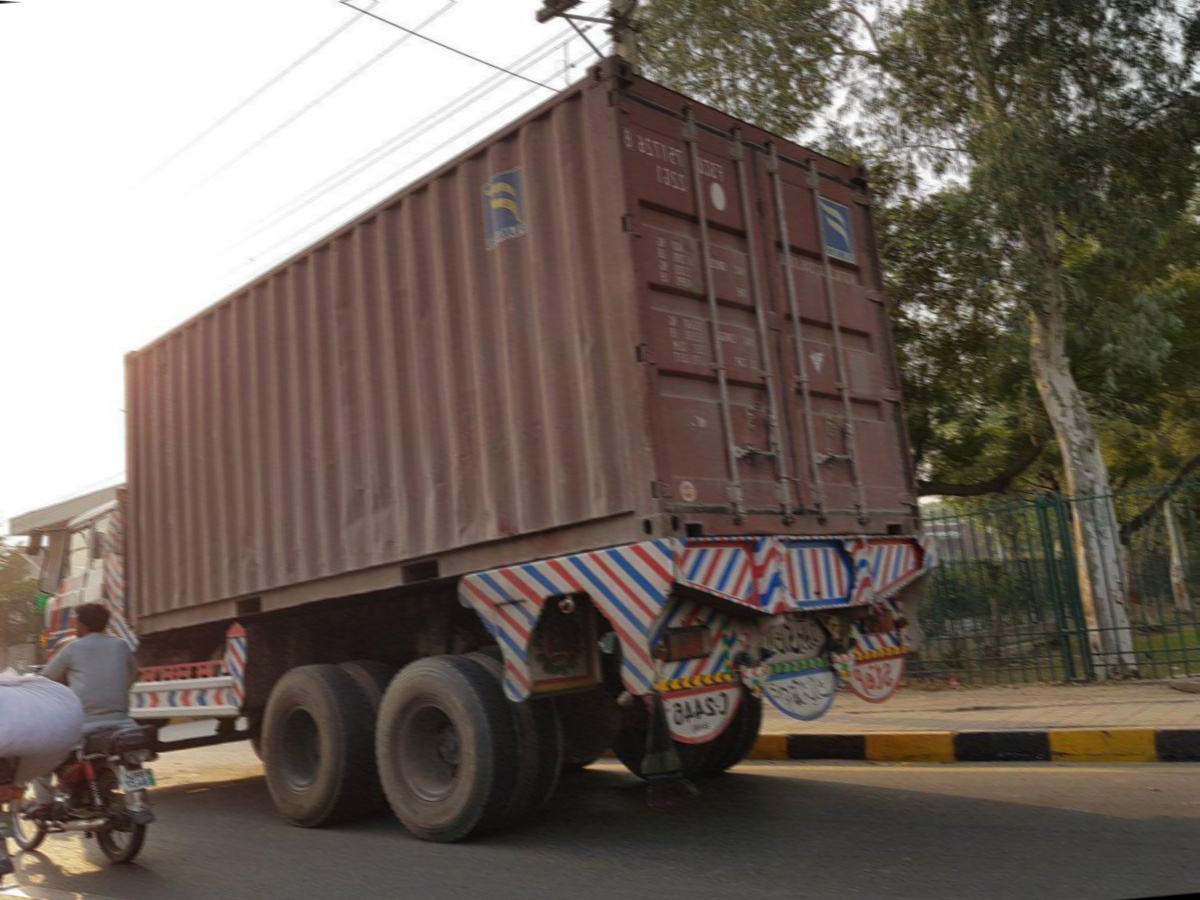truck: (0, 28, 954, 868)
